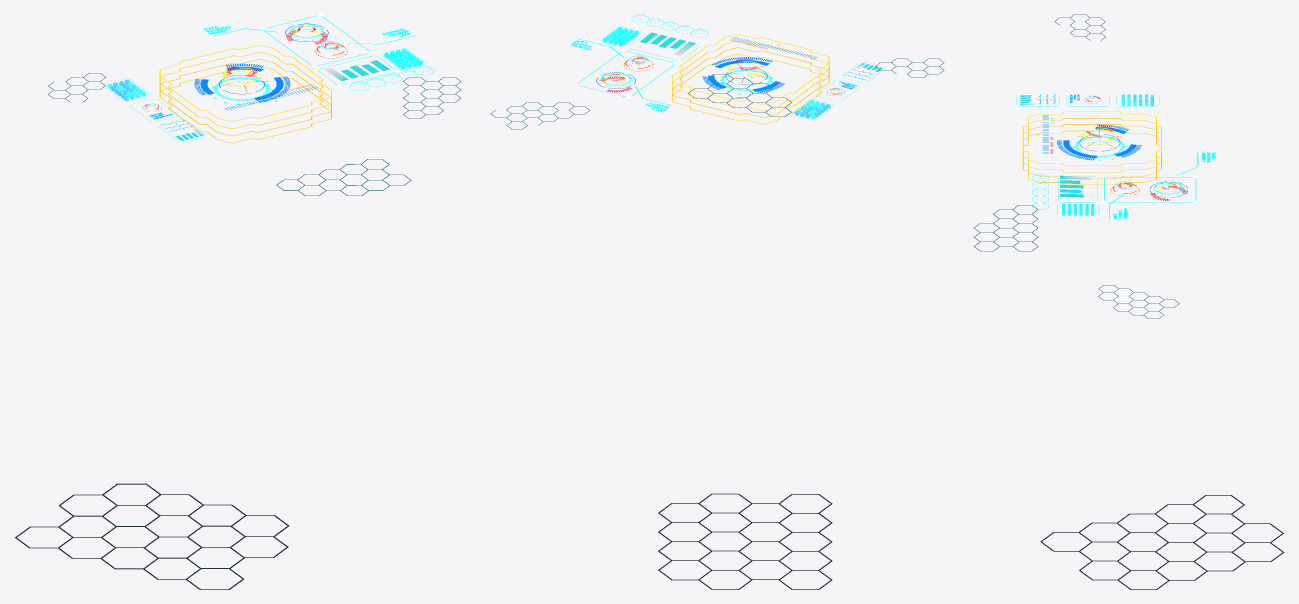
File: sci_fi_hud_quillvr.glb
The picture shows the model from 3 angles, left to right: view 1: azimuth 30°, elevation 25°; view 2: azimuth 150°, elevation 25°; view 3: azimuth 270°, elevation 25°; orthographic projection. The views are drawn at different scales.
Parts seen in each view (by area): view 1: Hexagon_33, Box01_31, Yoyo02_baked_25, Box02_32; view 2: Hexagon_33, Box01_31, Yoyo02_baked_25, Box02_32; view 3: Hexagon_33, Box01_31, Yoyo02_baked_25, Box02_32, Meters_45.
Part boxes in pixels (x1,y1,x2,y2): Hexagon_33: (14,73,461,589); Box01_31: (159,45,331,143); Yoyo02_baked_25: (194,63,290,102); Box02_32: (100,14,428,143); Hexagon_33: (490,58,944,589); Box01_31: (672,34,829,124); Yoyo02_baked_25: (702,57,784,93); Box02_32: (575,25,887,121); Hexagon_33: (974,14,1284,589); Box01_31: (1022,111,1161,184); Yoyo02_baked_25: (1057,124,1141,160); Box02_32: (1016,94,1196,215); Meters_45: (1060,175,1090,197).
Bounding box in the file's own units: 68.64 × 75.24 × 46.14.
